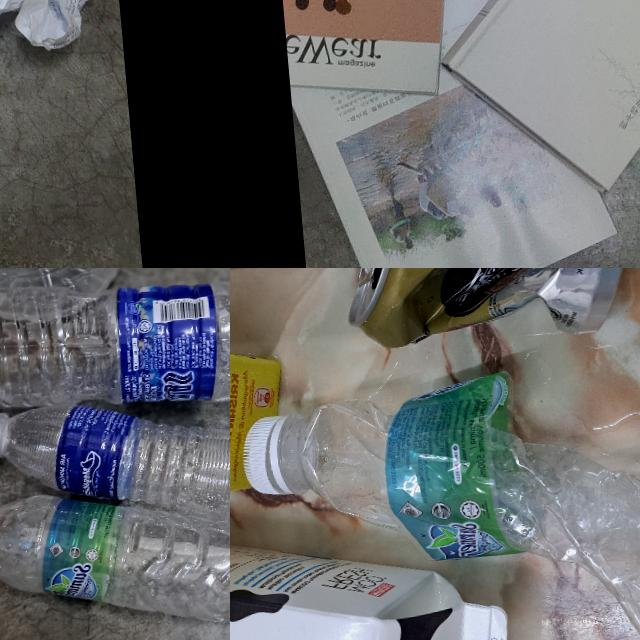aba de lata: (352, 268, 382, 286)
caixinha: (230, 495, 512, 640), (230, 314, 292, 513)
garrafa plástica: (273, 351, 640, 640), (0, 473, 230, 640), (0, 268, 230, 426), (0, 389, 230, 547)
lata: (338, 268, 640, 353)
papel: (260, 0, 640, 268)
tampa plástica: (238, 414, 290, 498)
